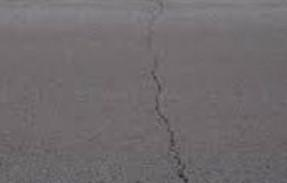crack: (145, 1, 189, 183)
